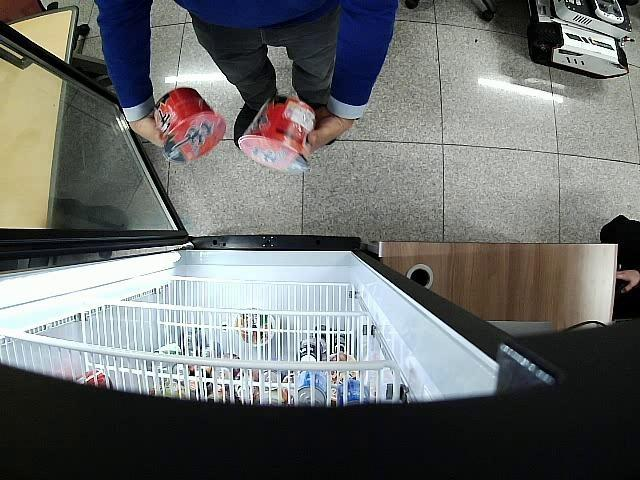01_ShinRamen_L: (240, 96, 316, 172), (154, 87, 224, 163)
